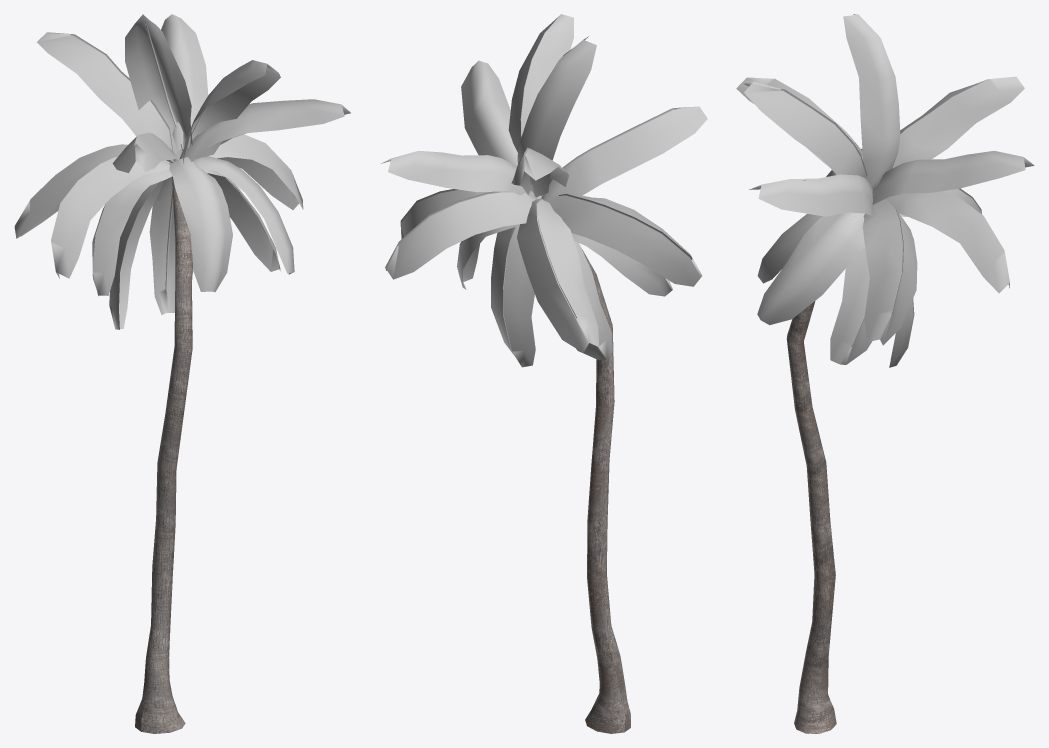
Rendered from palm3 b.dae.
The picture shows the model from 3 angles, left to right: view 1: azimuth 30°, elevation 25°; view 2: azimuth 150°, elevation 25°; view 3: azimuth 270°, elevation 25°; orthographic projection. The views are drawn at different scales.
Visible parts, largest first — view 1: palm_3b; view 2: palm_3b; view 3: palm_3b.
Boxes of the visible parts, x1=… form: palm_3b: x1=14, y1=14, x2=350, y2=733; palm_3b: x1=381, y1=14, x2=707, y2=733; palm_3b: x1=736, y1=14, x2=1034, y2=733.
Bounding box in the file's own units: 162 × 395 × 150.
